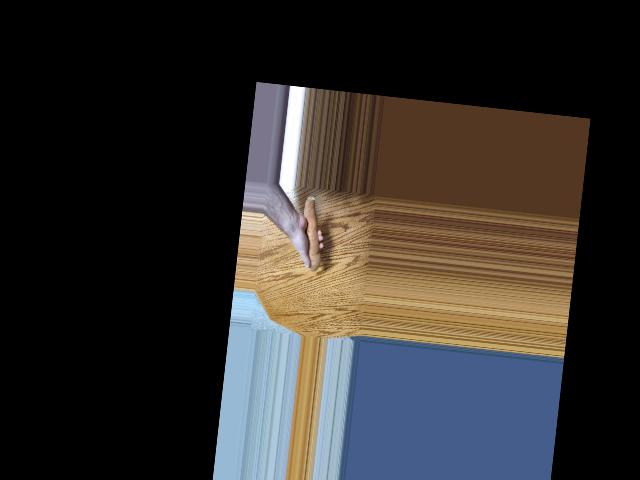sweet_potato: (294, 192, 328, 271)
